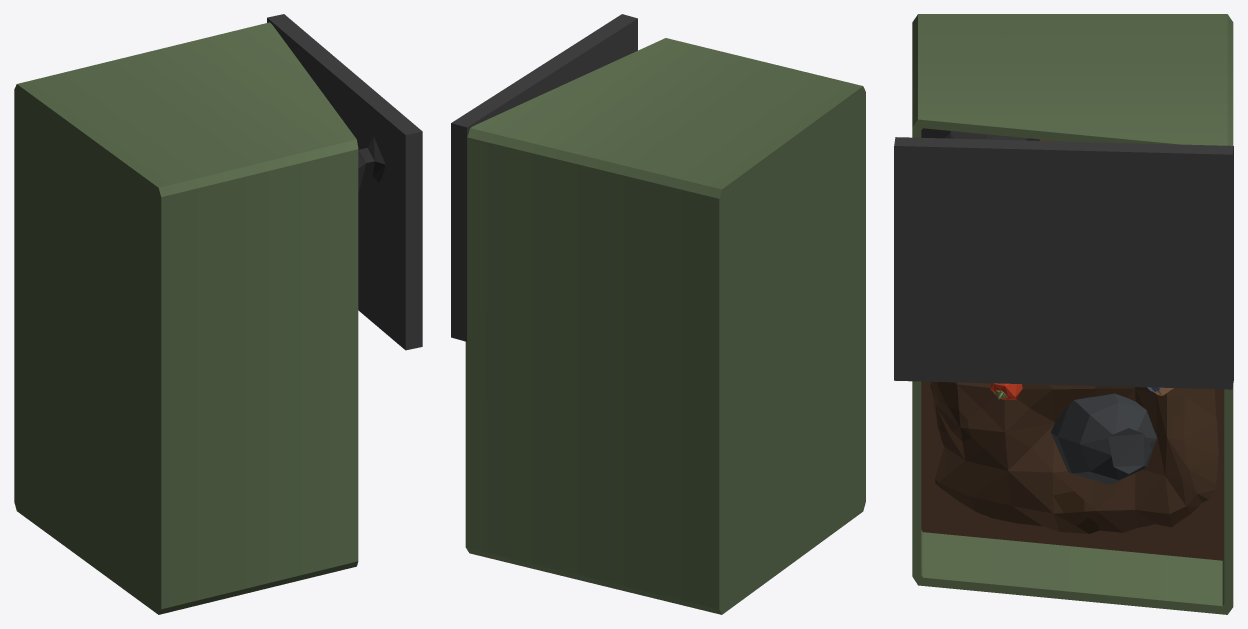
The model's file is TrashBroke.fbx.
3 views of the same model, side by side, from view 1: azimuth 30°, elevation 25°; view 2: azimuth 150°, elevation 25°; view 3: azimuth 270°, elevation 25° (orthographic). The views are drawn at different scales.
Visible parts, largest first — view 1: Trash_fracturepart18, Trash_fracturepart11, Trash_fracturepart7, Trash_fracturepart6, Trash_fracturepart17, Trash_fracturepart15, Trash_fracturepart3_4, Trash_fracturepart14, Trash_fracturepart3, Trash_fracturepart10, Trash_fracturepart4, Trash_fracturepart1 (+10 smaller); view 2: Trash_fracturepart12, Trash_fracturepart19, Trash_fracturepart17, Trash_fracturepart9, Trash_fracturepart13, Trash_fracturepart7, Trash_fracturepart1, Trash_fracturepart4, Trash_fracturepart11, Trash_fracturepart2, Trash_fracturepart10, Trash_fracturepart1_3 (+6 smaller); view 3: Trash_fracturepart1_3, Trash_fracturepart8_7, Trash_fracturepart15, Trash_fracturepart3_4, Trash_fracturepart7, Trash_fracturepart15_3, Trash_fracturepart1, Trash_fracturepart9, Trash_fracturepart4, Trash_fracturepart14_4, Trash_fracturepart12_3, Trash_fracturepart20_4 (+11 smaller).
Part boxes in pixels (x1=…): Trash_fracturepart18: x1=105, y1=180, x2=318, y2=424; Trash_fracturepart11: x1=45, y1=460, x2=267, y2=614; Trash_fracturepart7: x1=133, y1=78, x2=358, y2=209; Trash_fracturepart6: x1=111, y1=321, x2=259, y2=508; Trash_fracturepart17: x1=14, y1=135, x2=139, y2=287; Trash_fracturepart15: x1=39, y1=468, x2=358, y2=599; Trash_fracturepart3_4: x1=358, y1=142, x2=422, y2=337; Trash_fracturepart14: x1=253, y1=339, x2=350, y2=482; Trash_fracturepart3: x1=300, y1=165, x2=358, y2=357; Trash_fracturepart10: x1=44, y1=263, x2=114, y2=403; Trash_fracturepart4: x1=14, y1=67, x2=145, y2=141; Trash_fracturepart1: x1=215, y1=22, x2=353, y2=134; Trash_fracturepart12: x1=465, y1=411, x2=756, y2=614; Trash_fracturepart19: x1=465, y1=240, x2=640, y2=465; Trash_fracturepart17: x1=622, y1=103, x2=844, y2=325; Trash_fracturepart9: x1=513, y1=120, x2=718, y2=273; Trash_fracturepart13: x1=574, y1=296, x2=750, y2=436; Trash_fracturepart7: x1=611, y1=38, x2=853, y2=127; Trash_fracturepart1: x1=467, y1=41, x2=658, y2=255; Trash_fracturepart4: x1=647, y1=121, x2=791, y2=251; Trash_fracturepart11: x1=750, y1=401, x2=865, y2=588; Trash_fracturepart2: x1=681, y1=415, x2=769, y2=573; Trash_fracturepart10: x1=749, y1=264, x2=819, y2=443; Trash_fracturepart1_3: x1=451, y1=14, x2=637, y2=254; Trash_fracturepart1_3: x1=894, y1=137, x2=1233, y2=292; Trash_fracturepart8_7: x1=894, y1=266, x2=1233, y2=389; Trash_fracturepart15: x1=912, y1=422, x2=1233, y2=614; Trash_fracturepart3_4: x1=894, y1=157, x2=1128, y2=363; Trash_fracturepart7: x1=912, y1=14, x2=1132, y2=137; Trash_fracturepart15_3: x1=935, y1=423, x2=1185, y2=533; Trash_fracturepart1: x1=929, y1=96, x2=1233, y2=145; Trash_fracturepart9: x1=1090, y1=49, x2=1233, y2=131; Trash_fracturepart4: x1=1049, y1=14, x2=1233, y2=59; Trash_fracturepart14_4: x1=930, y1=381, x2=1059, y2=439; Trash_fracturepart12_3: x1=1159, y1=408, x2=1218, y2=516; Trash_fracturepart20_4: x1=1074, y1=393, x2=1157, y2=470.
Size of the model in its own units: 317 by 482 by 317.
1 material, 1 textured.
